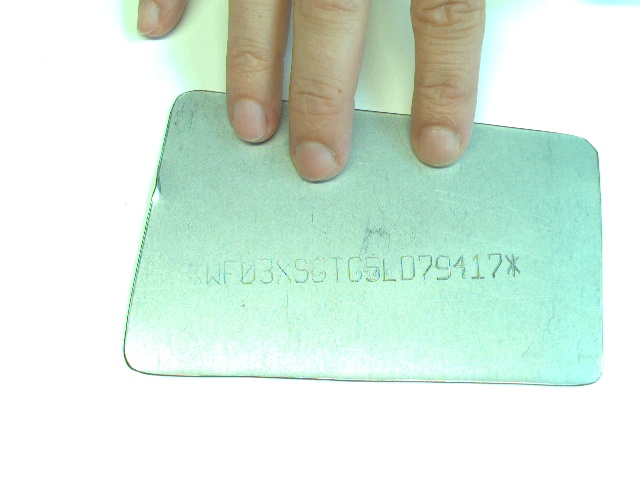0: (238, 259, 257, 287)
1: (469, 252, 488, 283)
3: (257, 257, 276, 284)
4: (452, 252, 469, 281)
5: (364, 254, 382, 284)
7: (416, 253, 434, 281), (488, 252, 504, 281)
9: (434, 253, 452, 282)
d: (400, 253, 416, 281)
f: (222, 259, 237, 286)
g: (310, 256, 329, 284), (346, 254, 363, 283)
l: (381, 255, 397, 283)
s: (294, 257, 310, 285)
t: (329, 255, 345, 283)
w: (202, 259, 222, 287)
x: (275, 257, 294, 286)
